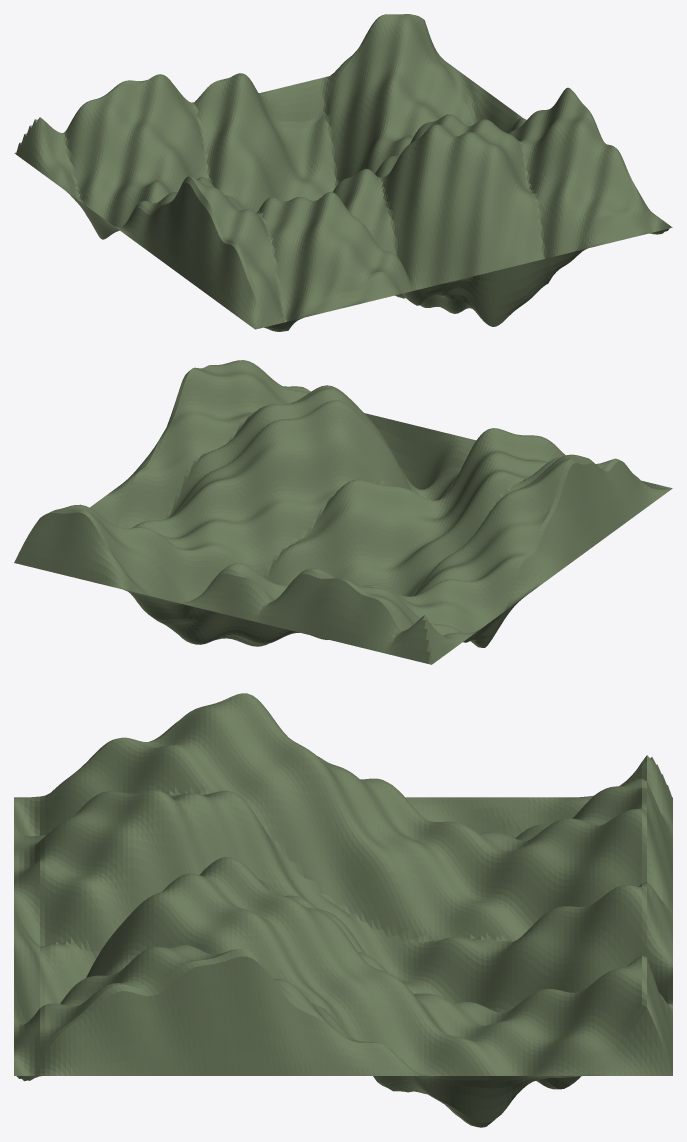
Rendered from harbor_estuary_banks.obj.
3 views of the same model, one above another, from view 1: azimuth 30°, elevation 25°; view 2: azimuth 150°, elevation 25°; view 3: azimuth 270°, elevation 25° (orthographic). The views are drawn at different scales.
Parts seen in each view (by area): view 1: harbor_estuary_banks; view 2: harbor_estuary_banks; view 3: harbor_estuary_banks.
Boxes of the visible parts, x1=… form: harbor_estuary_banks: x1=14, y1=14, x2=672, y2=331; harbor_estuary_banks: x1=14, y1=360, x2=672, y2=664; harbor_estuary_banks: x1=14, y1=693, x2=672, y2=1127.
Size of the model in its own units: 28 by 10.98 by 28.
